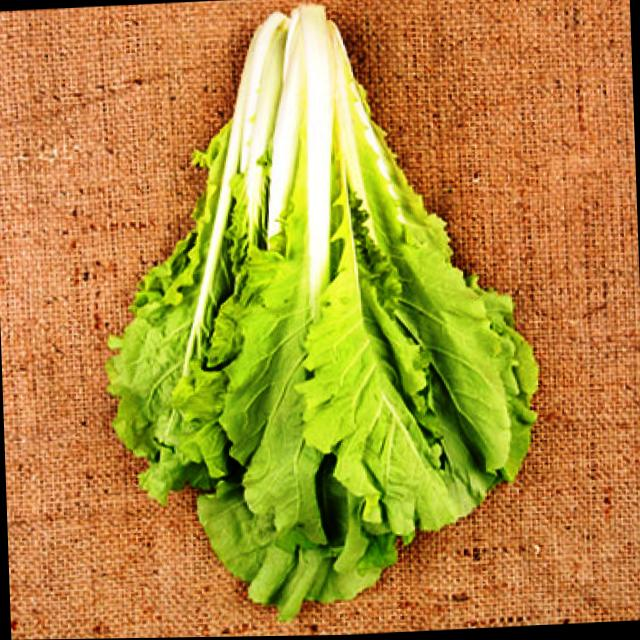chinese_cabbage: (78, 5, 562, 620)
